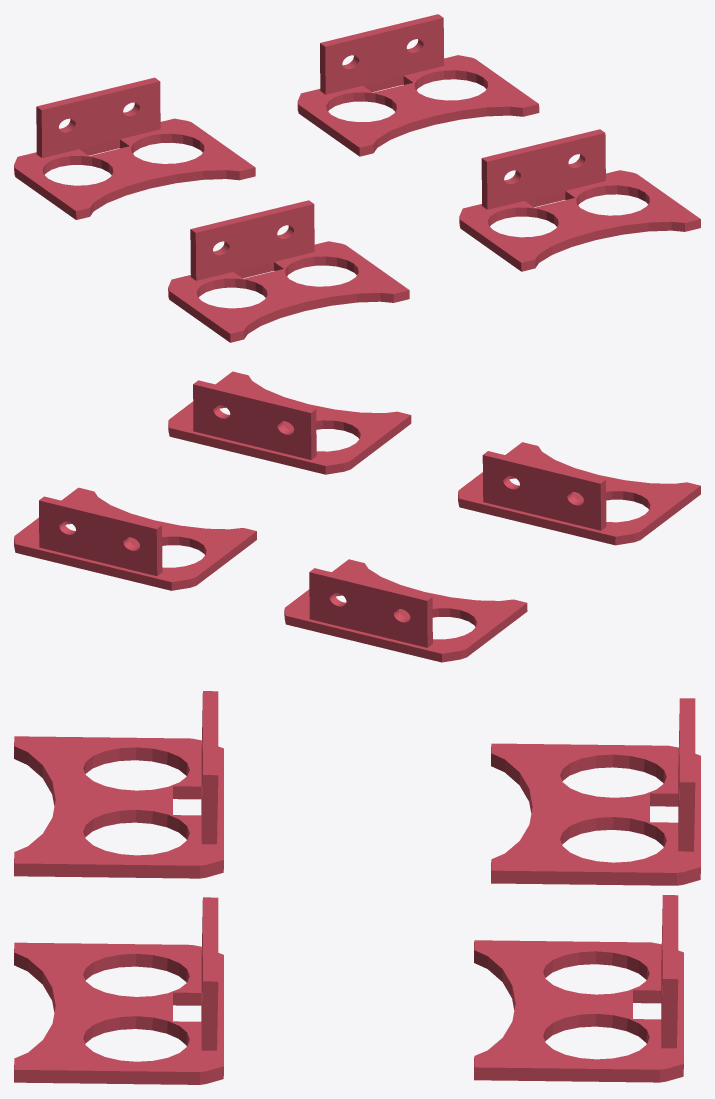
The model's file is Smooth Rottis-Robo.glb.
3 renders of one model, top to bottom at view 1: azimuth 30°, elevation 25°; view 2: azimuth 150°, elevation 25°; view 3: azimuth 270°, elevation 25°, orthographic. The views are drawn at different scales.
Parts seen in each view (by area): view 1: Mesh_Mesh_head_geo.001_lambert2SG.001; view 2: Mesh_Mesh_head_geo.001_lambert2SG.001; view 3: Mesh_Mesh_head_geo.001_lambert2SG.001.
Boxes of the visible parts, bbox=[...] form: Mesh_Mesh_head_geo.001_lambert2SG.001: bbox=[14, 14, 700, 342]; Mesh_Mesh_head_geo.001_lambert2SG.001: bbox=[14, 371, 700, 662]; Mesh_Mesh_head_geo.001_lambert2SG.001: bbox=[14, 691, 700, 1084].
Bounding box in the file's own units: 139 × 16 × 121.
